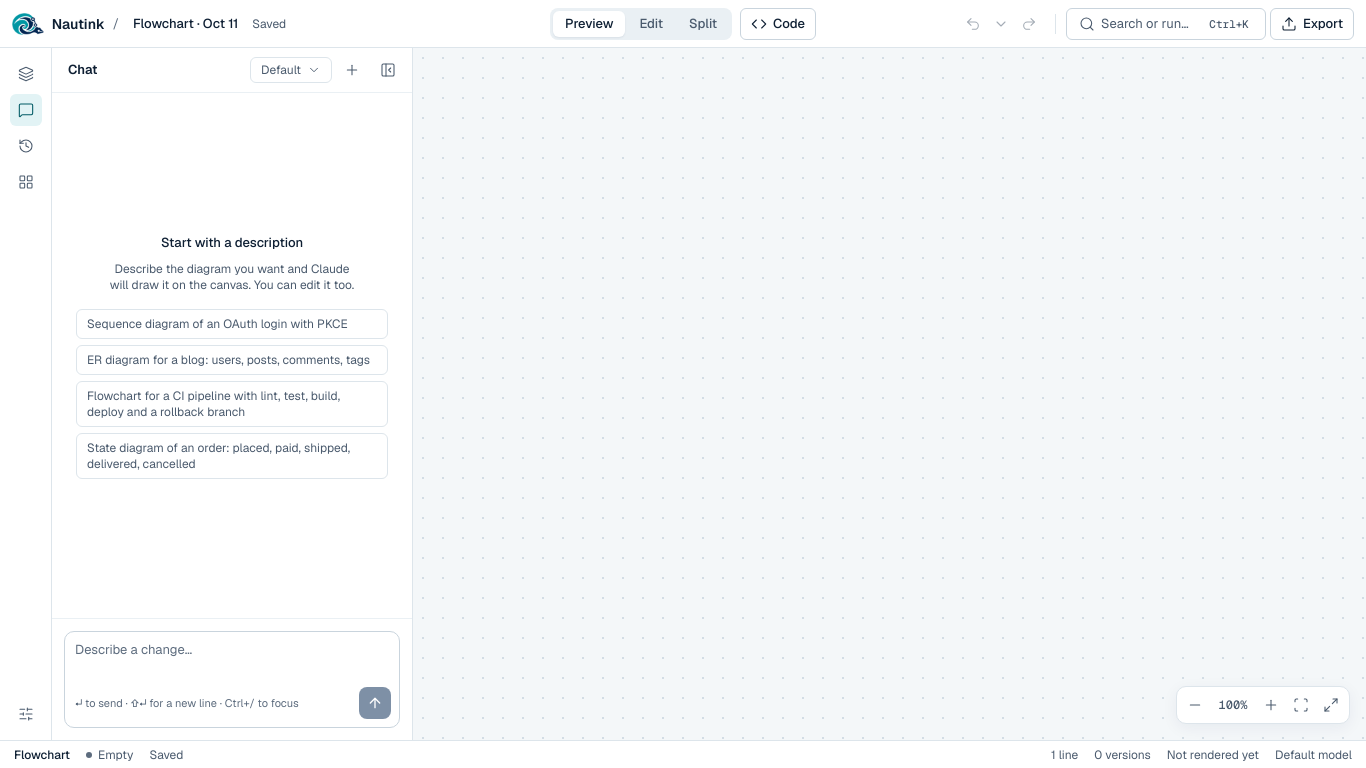
Scenario: workspace in the shell › renames the diagram from the top bar title
Click the button "Flowchart · Oct 11". click: (186, 24)
box: [127, 10, 244, 38]
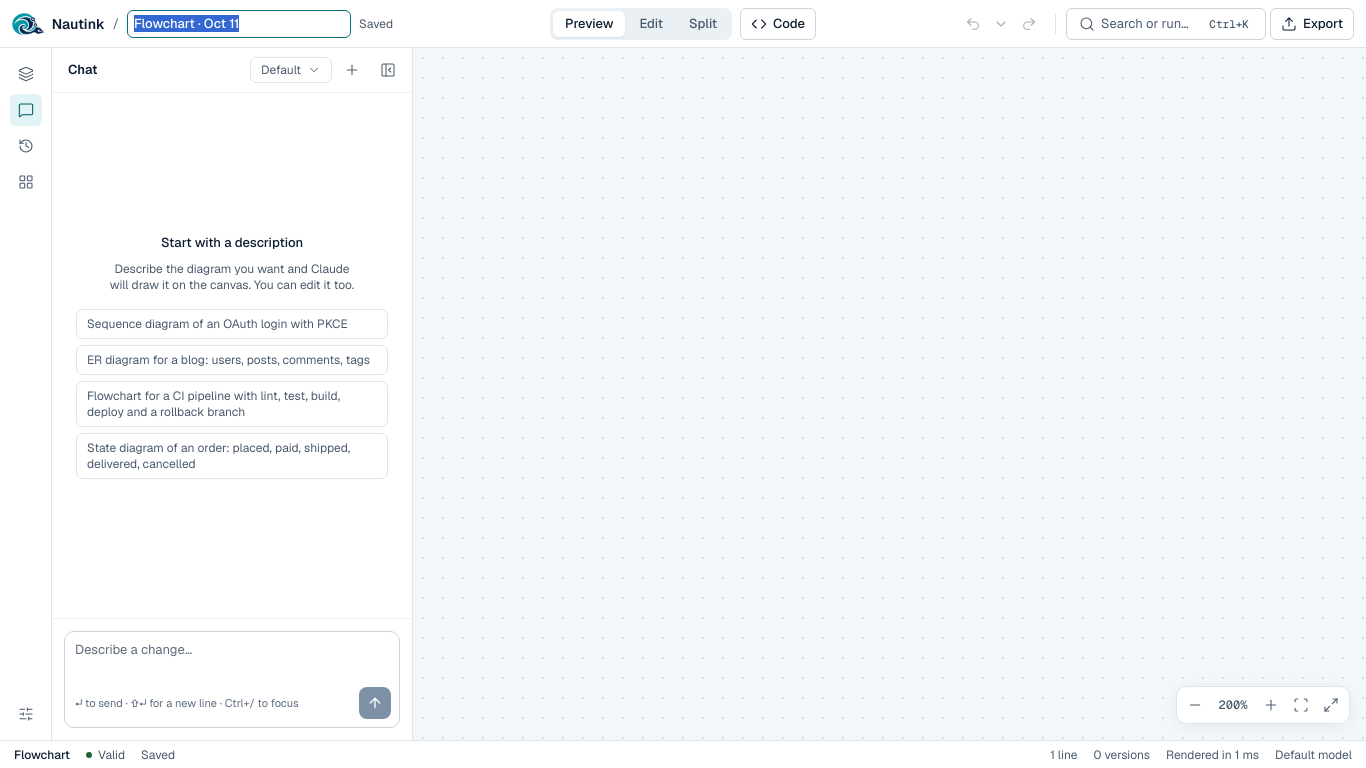
Type keys "Checkout flow{Enter}"
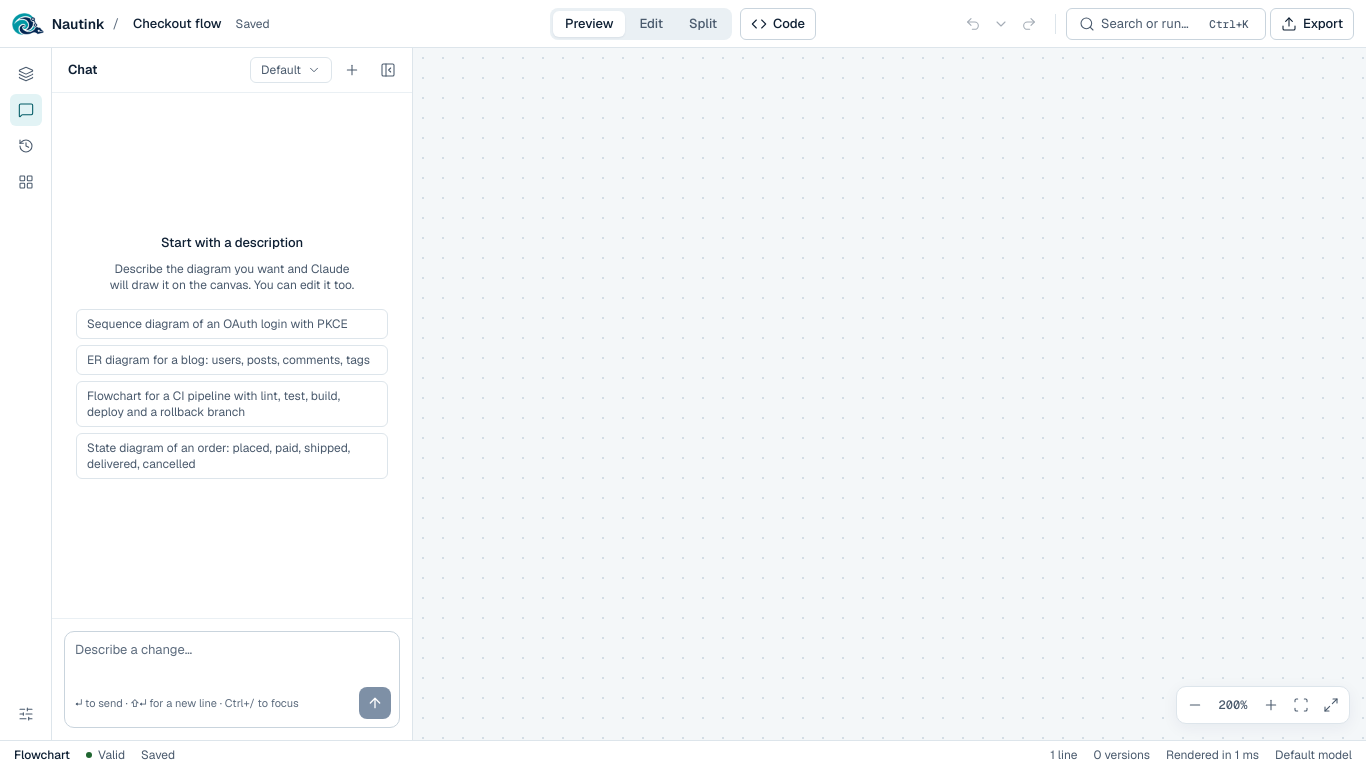
Check: the button "Checkout flow" is shown
Click the button "Checkout flow". click: (177, 24)
box: [127, 10, 228, 38]
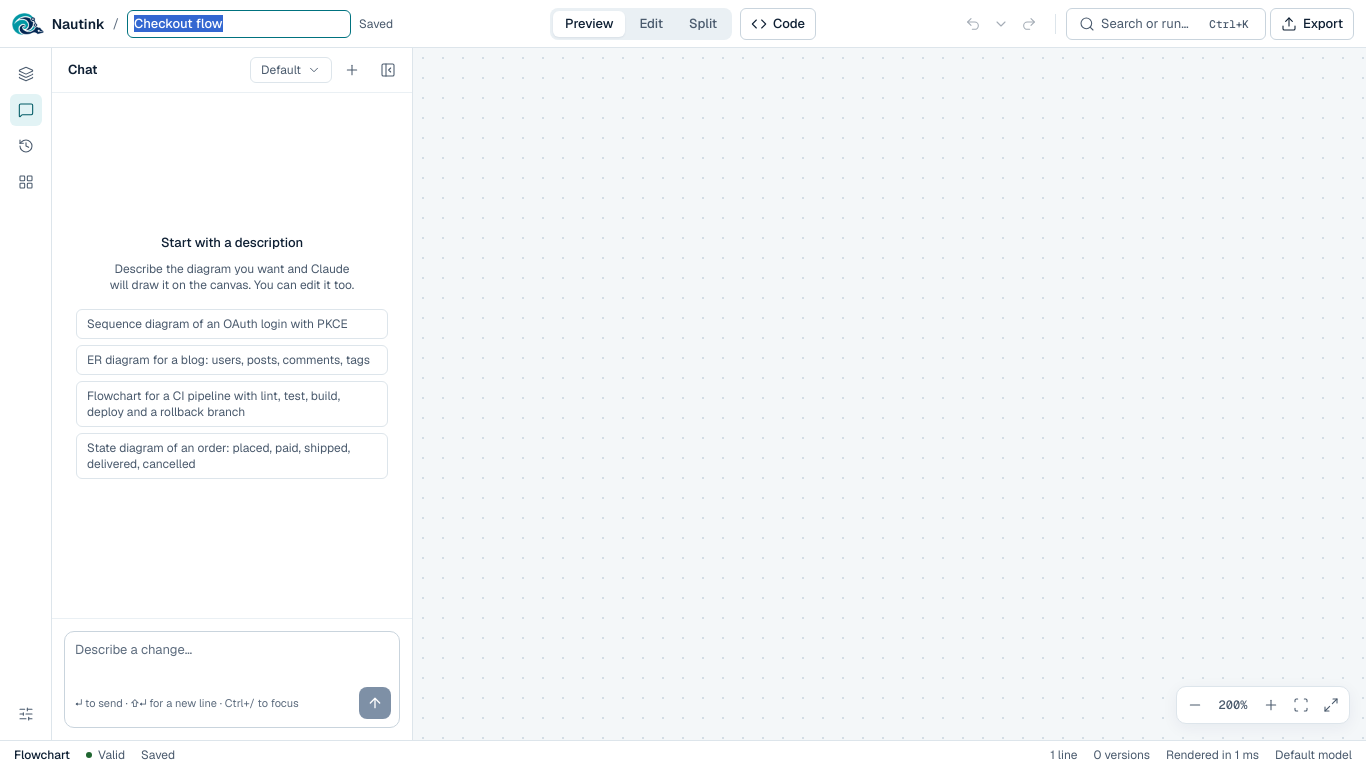
Type keys "Other{Escape}"
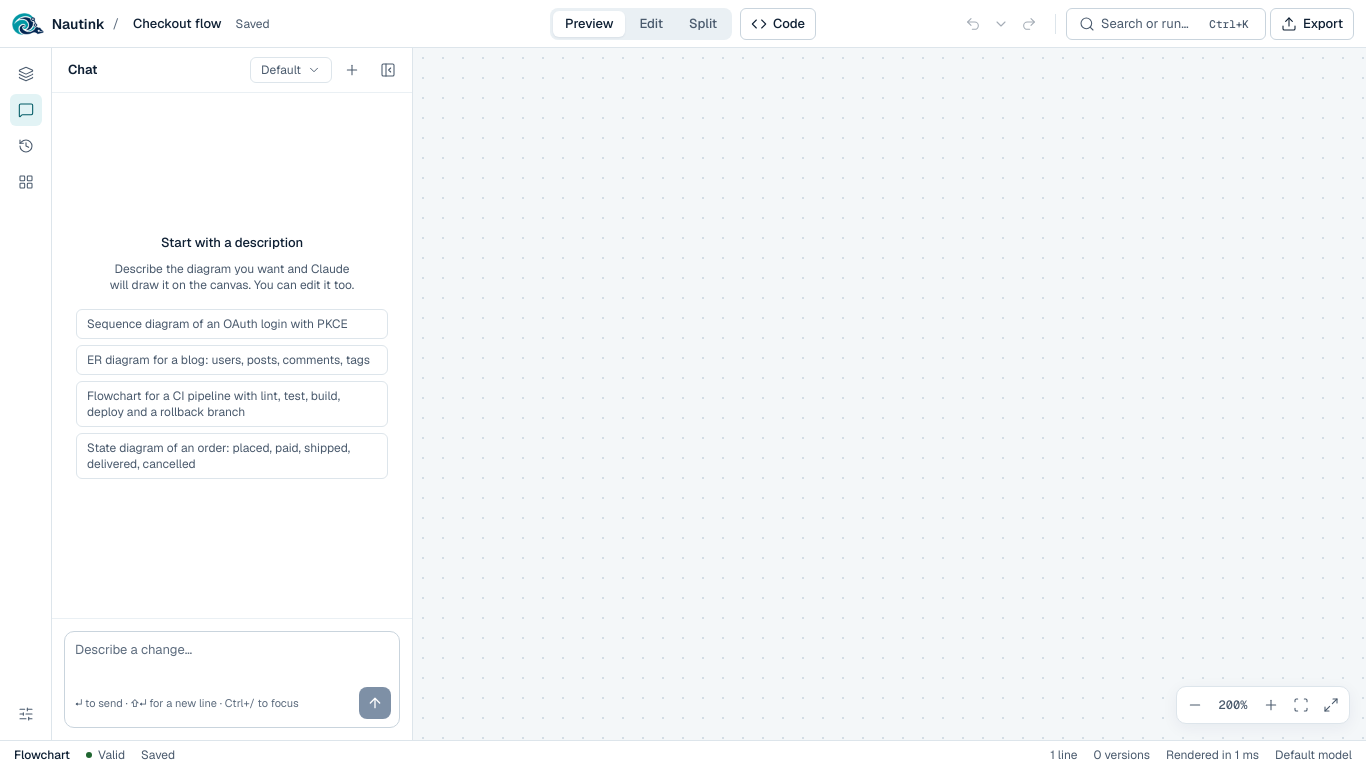
Check: the button "Checkout flow" is shown
Click the button "Checkout flow". click: (177, 24)
box: [127, 10, 228, 38]
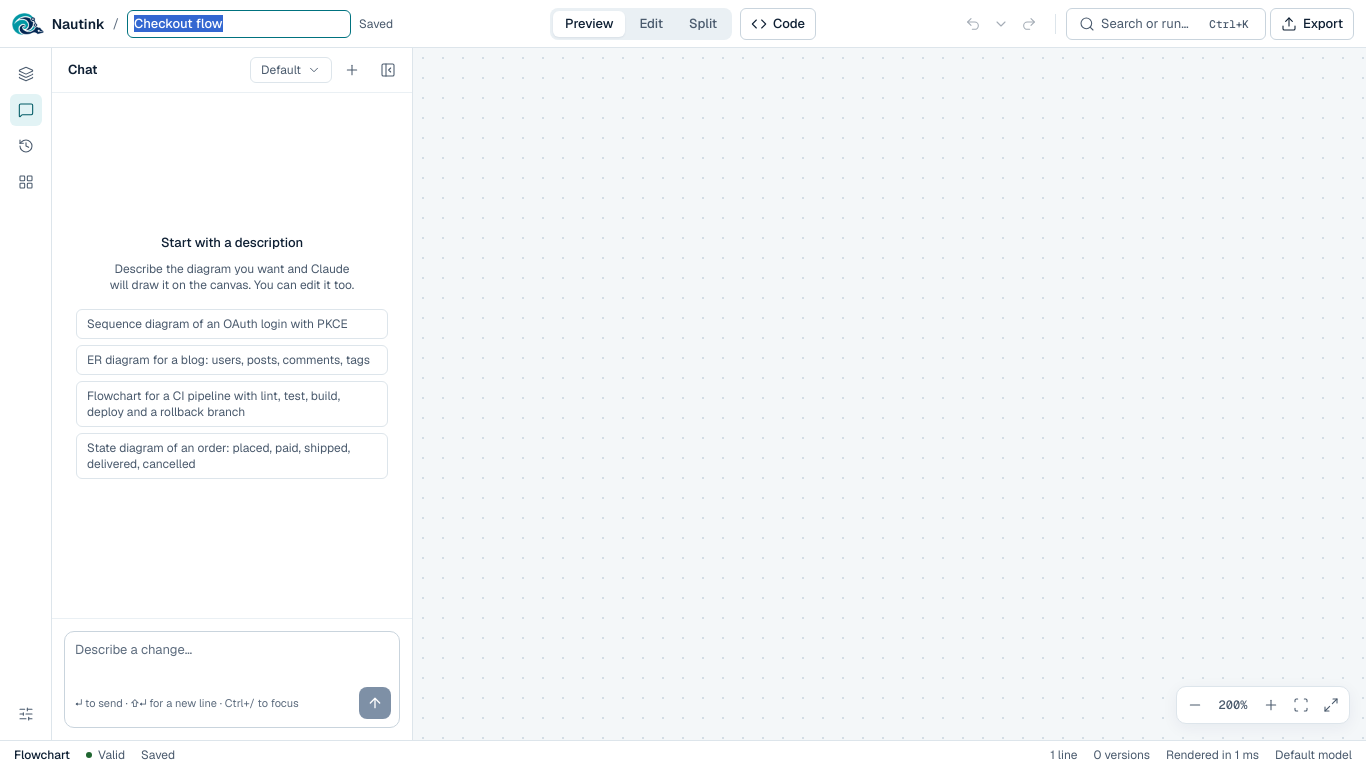
Clear the field named "Diagram title". click: (239, 24)
box: [127, 10, 351, 38]
Press Tab
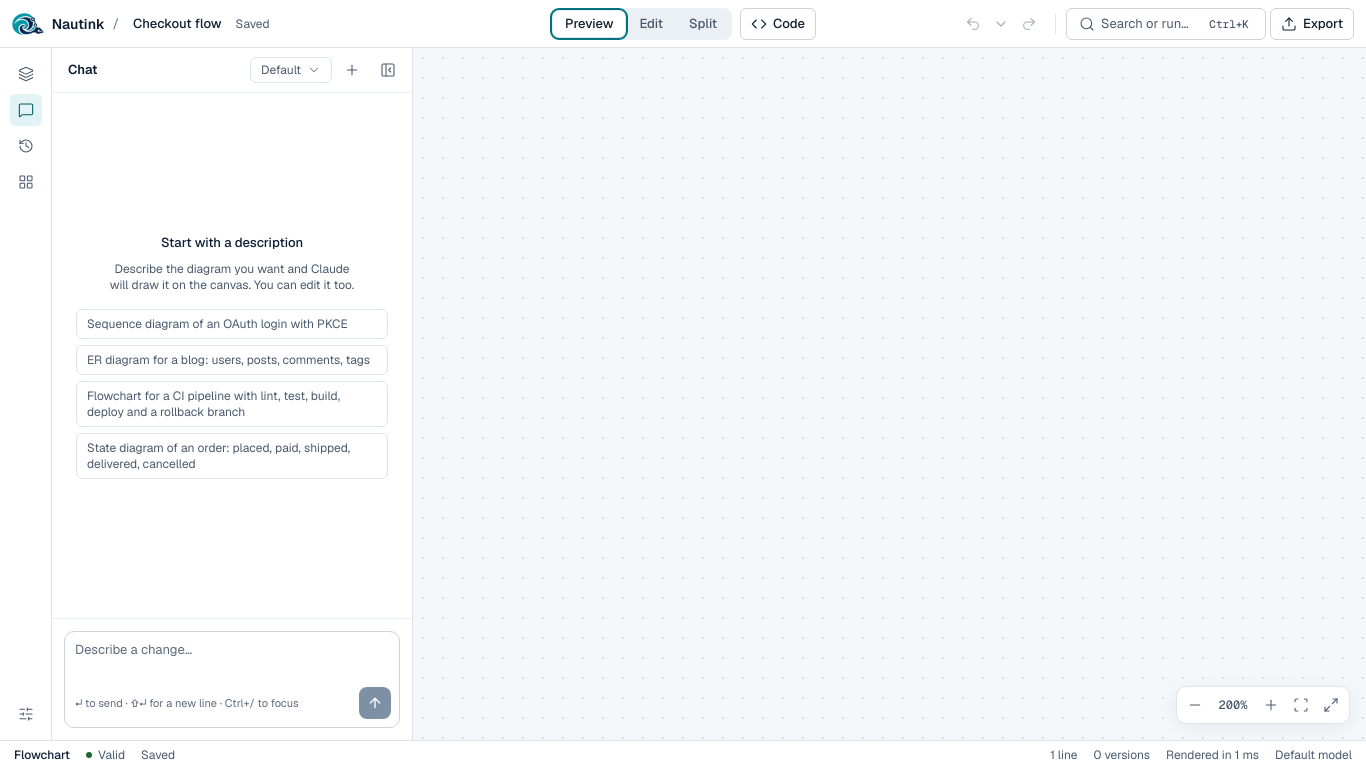
Check: the button "Checkout flow" is shown, box [127, 10, 228, 38]
